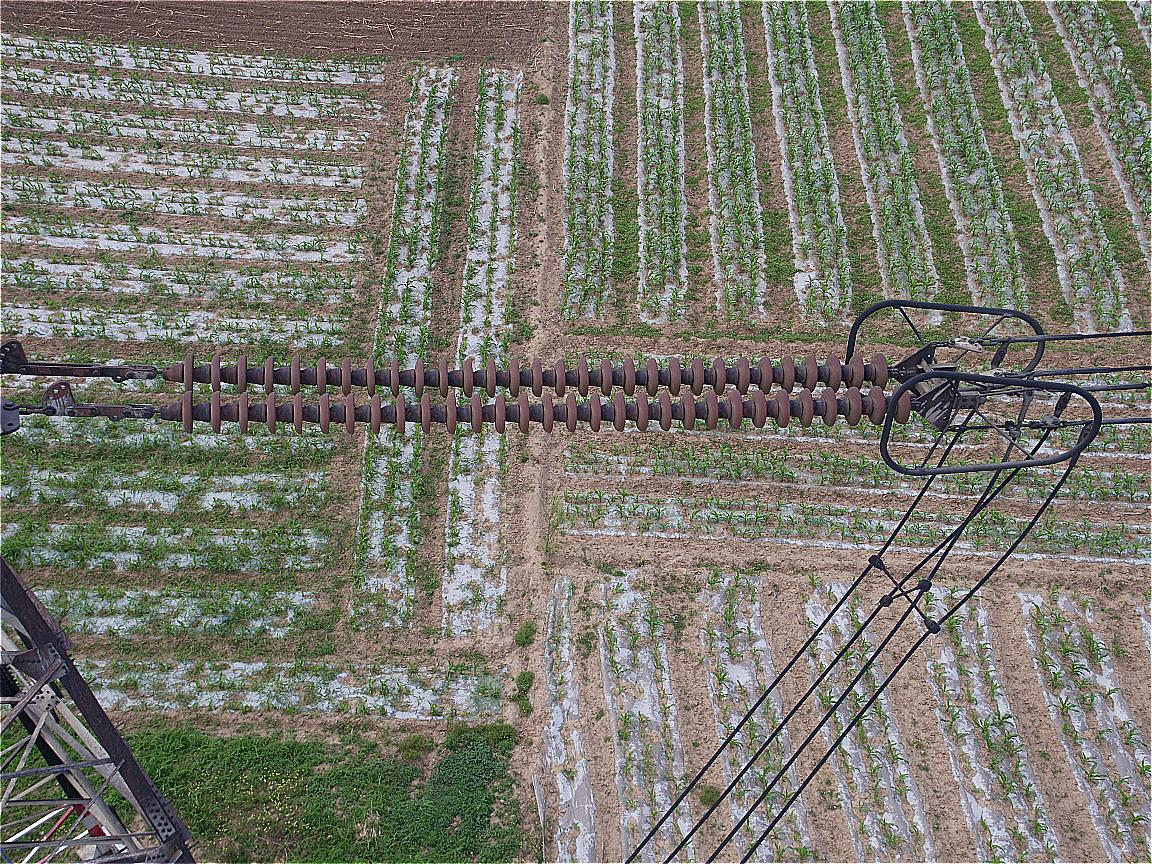insultor1: (144, 326, 956, 455)
